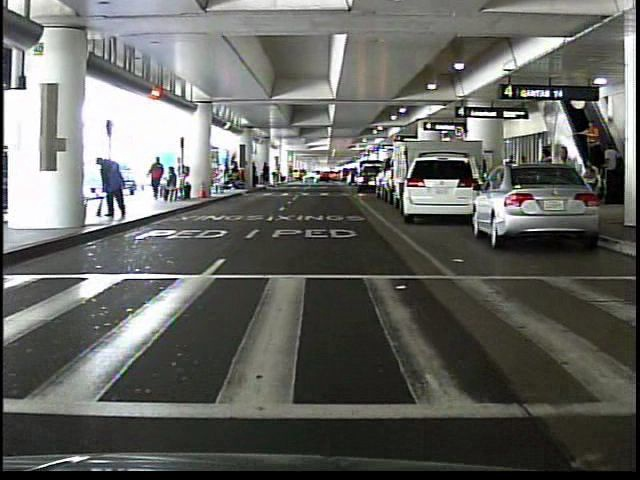person: (96, 152, 131, 222), (579, 118, 605, 168), (603, 140, 622, 193), (273, 162, 285, 189)
